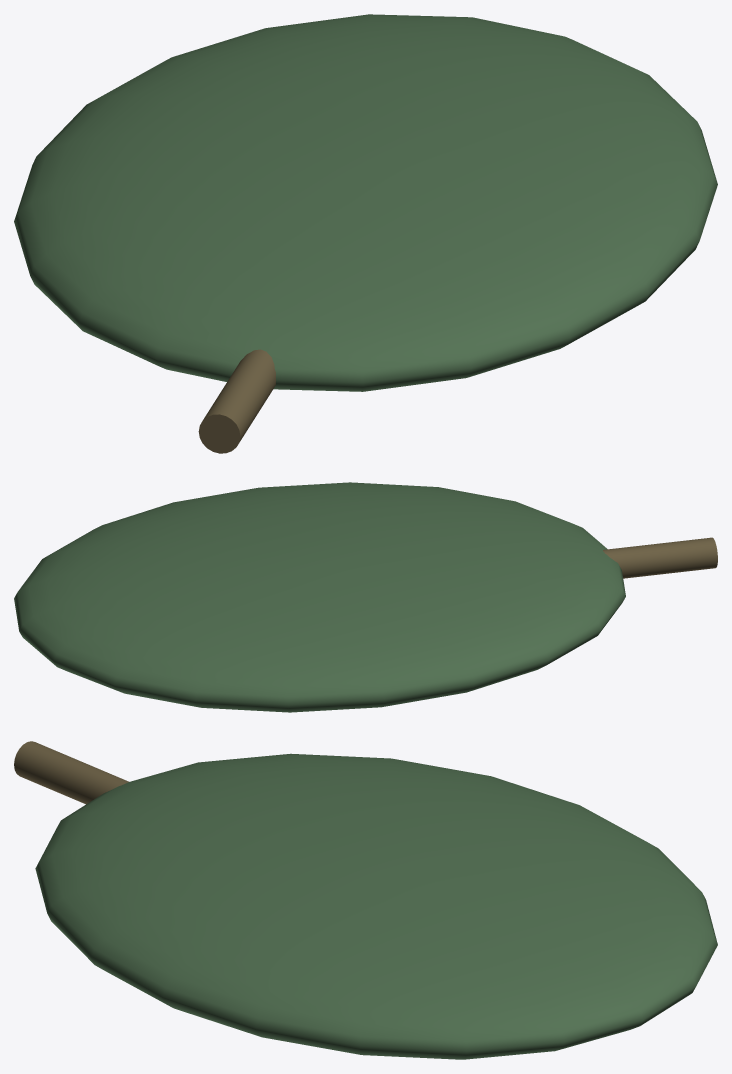
The model's file is leaf.fbx.
3 views of the same model, one above another, from view 1: azimuth 30°, elevation 25°; view 2: azimuth 150°, elevation 25°; view 3: azimuth 270°, elevation 25° (orthographic). The views are drawn at different scales.
Visible parts, largest first — view 1: pSphere20, pCylinder2; view 2: pSphere20, pCylinder2; view 3: pSphere20, pCylinder2.
Boxes of the visible parts, x1,y1,x2,y2 form: pSphere20: (14, 14, 717, 391); pCylinder2: (198, 349, 275, 453); pSphere20: (14, 482, 625, 712); pCylinder2: (603, 537, 717, 578); pSphere20: (35, 753, 717, 1059); pCylinder2: (14, 741, 128, 804).
Bounding box in the file's own units: 0.9329 × 0.15 × 0.9329.
